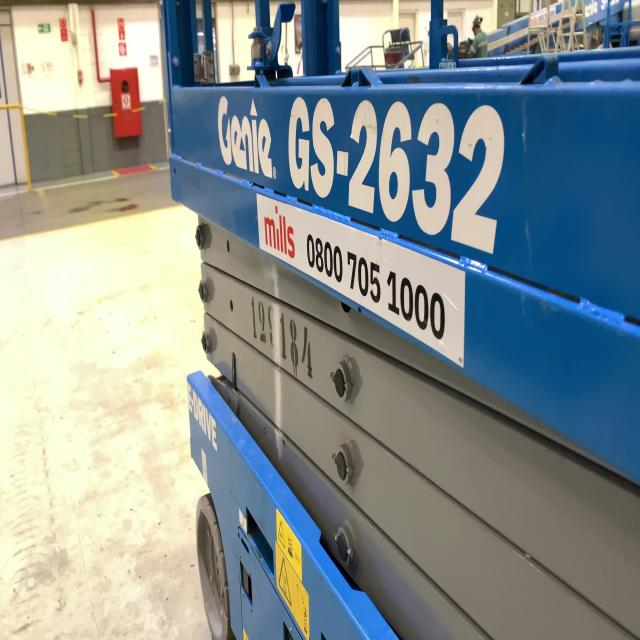Adesivo Longo: (255, 191, 469, 374)
